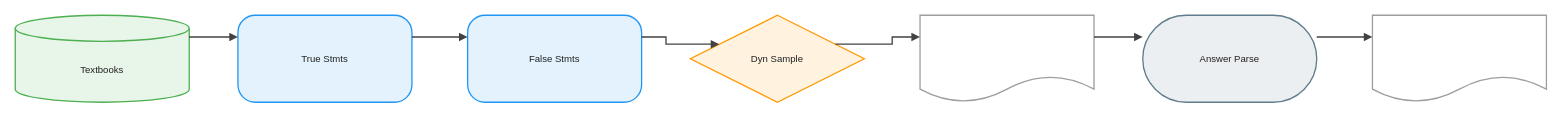
This 1563x118 diagram has some shape labels left out. Here are the shapes that lost their labels. From the top down, the centre of each, then its label:
At (x=1006, y=58): "Options".
At (x=1459, y=58): "Accuracy".
